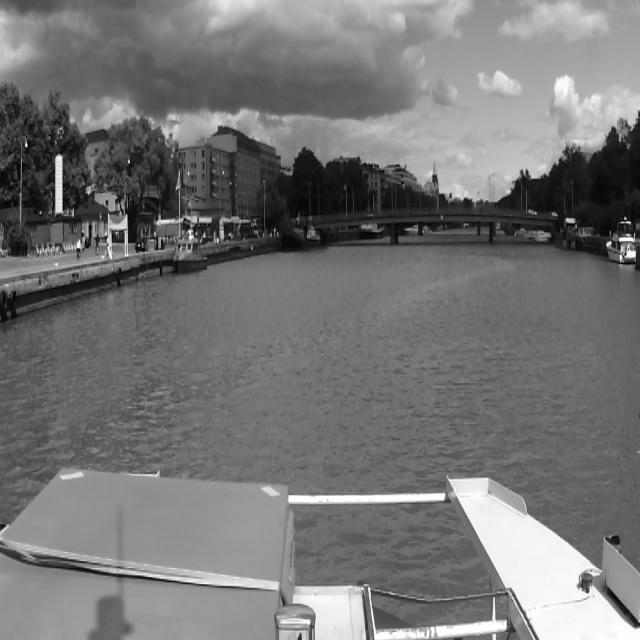ship: (170, 237, 209, 274), (608, 217, 638, 263), (282, 215, 308, 252), (534, 230, 552, 242), (308, 228, 320, 246)
